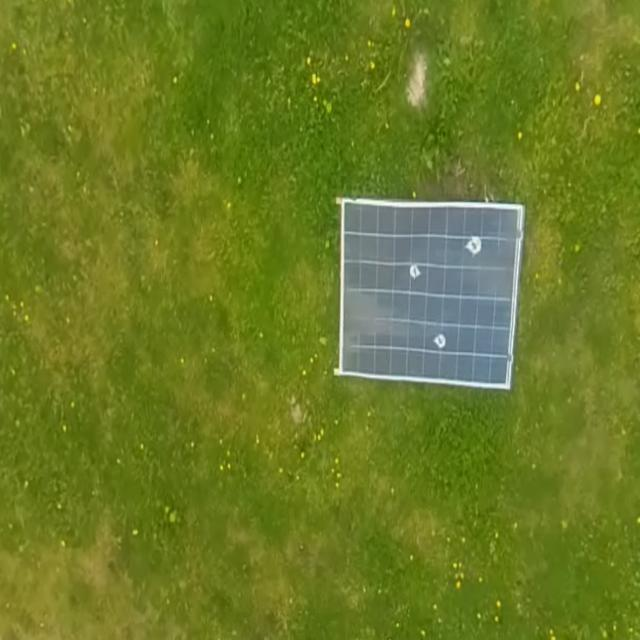Bird-drop: (466, 234, 484, 256), (409, 262, 421, 280), (434, 333, 447, 348)
